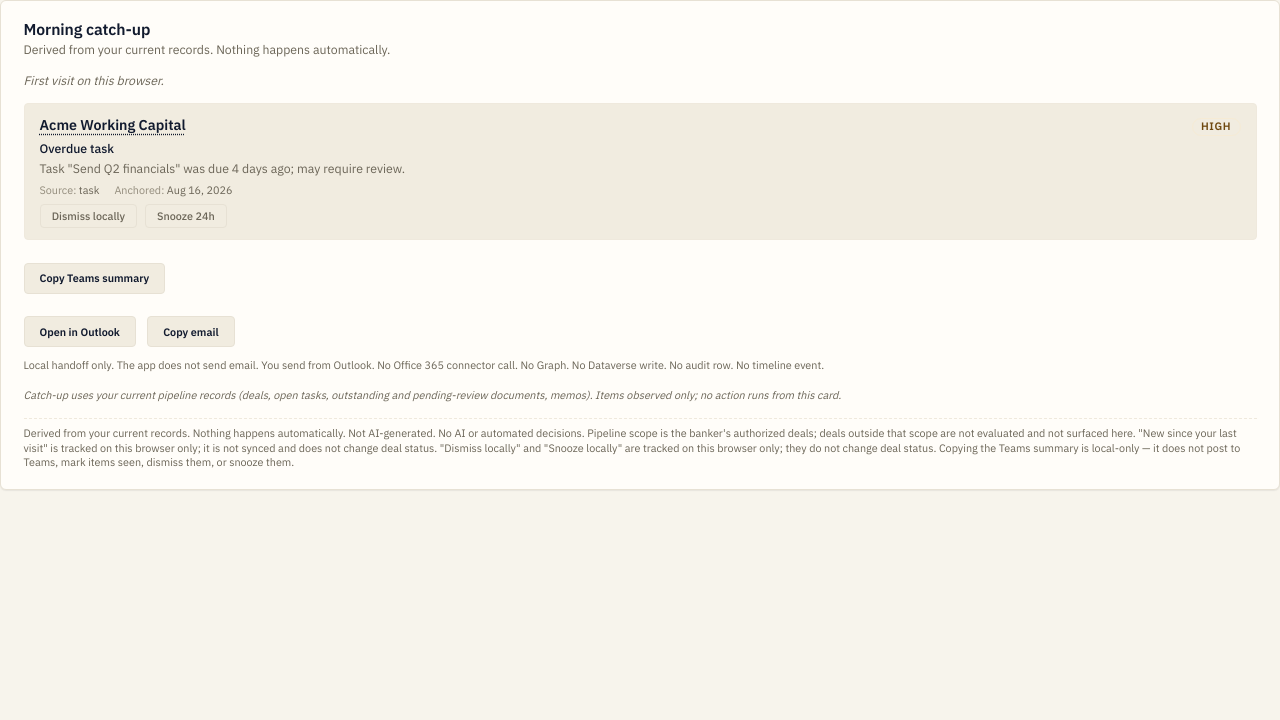
Test: BankerMorningCatchUp — Phase 89 › Phase 98 — Copy Teams summary › shows "Copied to clipboard. Paste into Teams." status after a successful copy
Click the button with aria-label "Copy Teams summary for banker morning catch-up": (94, 278) top-left (24, 263), bottom-right (165, 294)
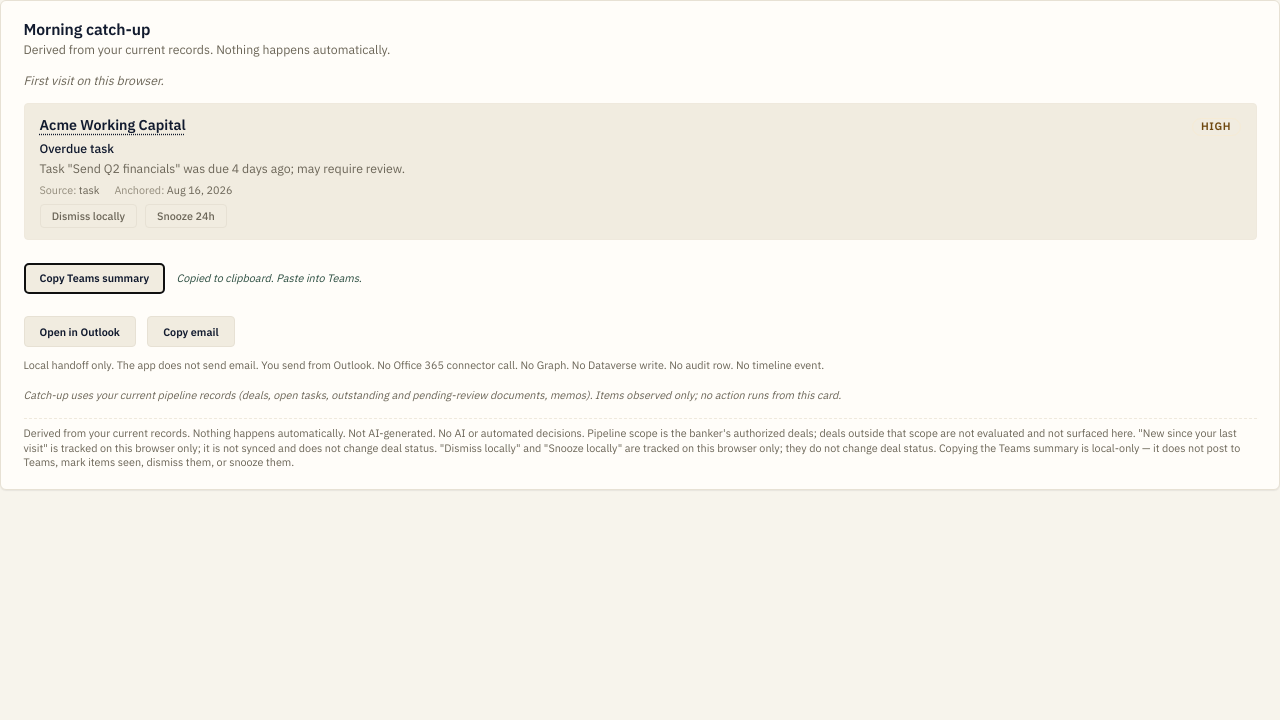
Expected: the text "Copied to clipboard. Paste into Teams." is shown, top-left (176, 271), bottom-right (362, 285)
